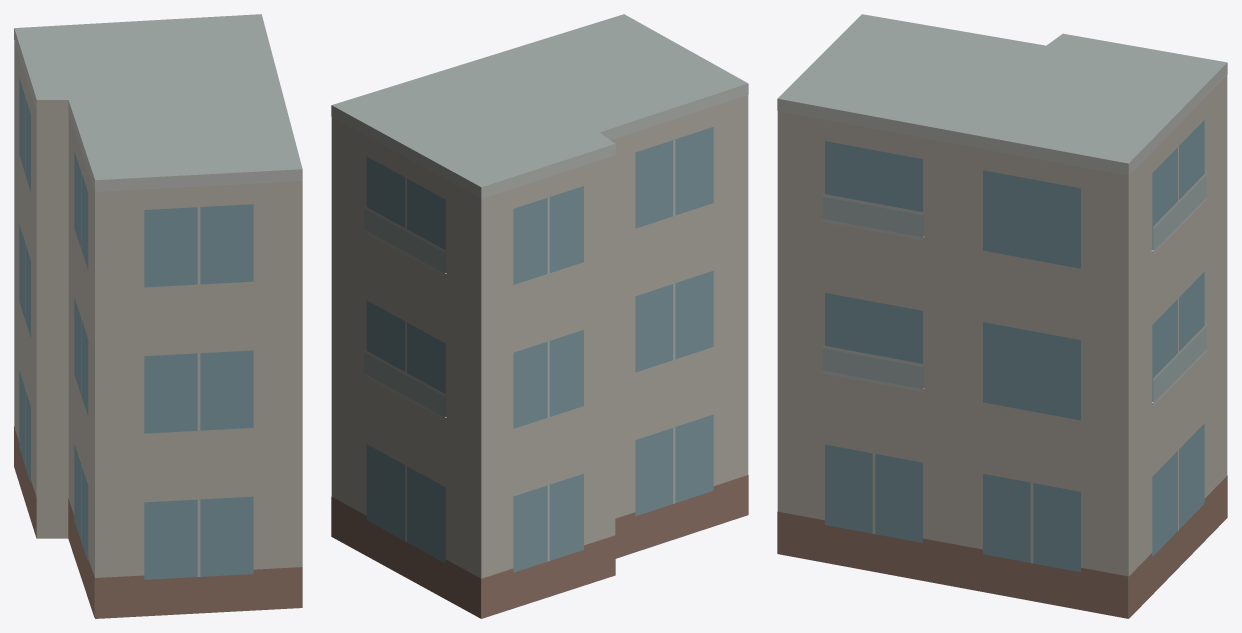
File: survey-upis-32927115.glb
3 renders of one model, left to right at view 1: azimuth 30°, elevation 25°; view 2: azimuth 150°, elevation 25°; view 3: azimuth 270°, elevation 25°, orthographic. The views are drawn at different scales.
Visible parts, largest first — view 1: survey-upis-32927115.tmp; view 2: survey-upis-32927115.tmp; view 3: survey-upis-32927115.tmp.
Part boxes in pixels (<box>): survey-upis-32927115.tmp: <box>14,14,302,618</box>; survey-upis-32927115.tmp: <box>331,14,748,618</box>; survey-upis-32927115.tmp: <box>777,14,1227,618</box>.
Size of the model in its own units: 6.46 by 9.15 by 8.21.
